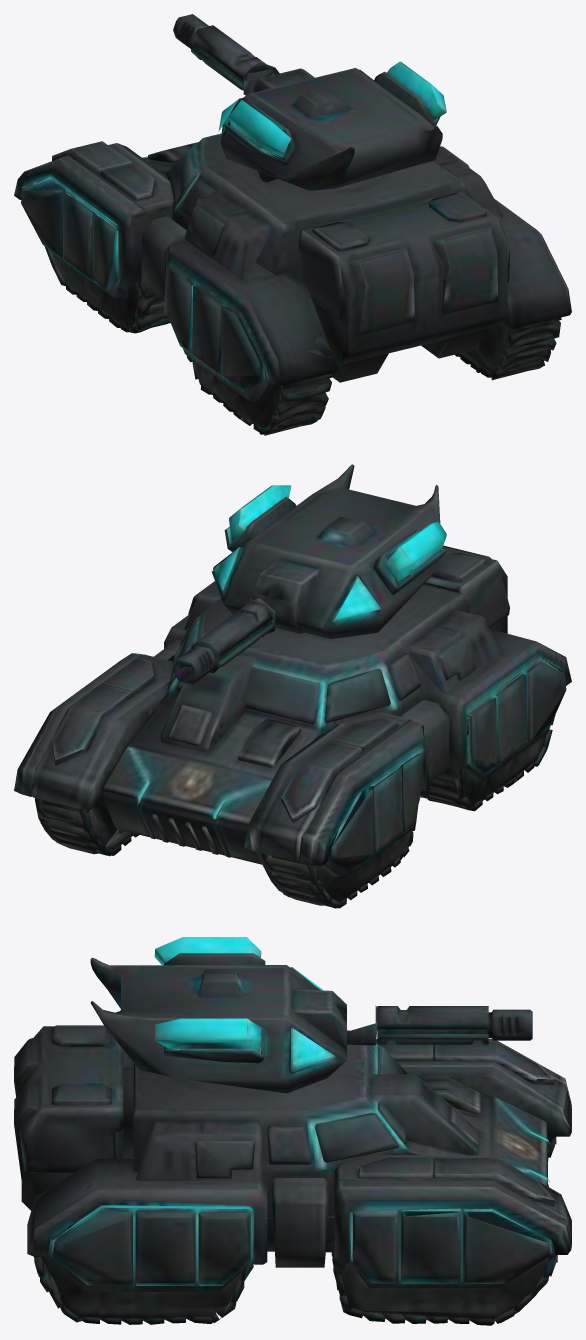
File: cyan_ifv.glb
3 views of the same model, one above another, from view 1: azimuth 30°, elevation 25°; view 2: azimuth 150°, elevation 25°; view 3: azimuth 270°, elevation 25° (orthographic). The views are drawn at different scales.
Parts seen in each view (by area): view 1: Body, Turret, Barrel, Trim; view 2: Body, Turret, Barrel, Trim; view 3: Body, Turret, Barrel, Trim.
Boxes of the visible parts, x1,y1,x2,y2 form: Body: (14,133,571,435); Turret: (218,61,446,190); Barrel: (173,14,279,95); Trim: (27,156,262,359); Body: (14,545,571,908); Turret: (212,464,446,638); Barrel: (173,598,275,684); Trim: (133,657,560,846); Body: (14,1025,571,1325); Turret: (90,937,346,1093); Barrel: (347,1005,532,1045); Trim: (55,1123,549,1285).
Size of the model in its own units: 5.07 by 4.08 by 7.43.
2 materials, 2 textured.
